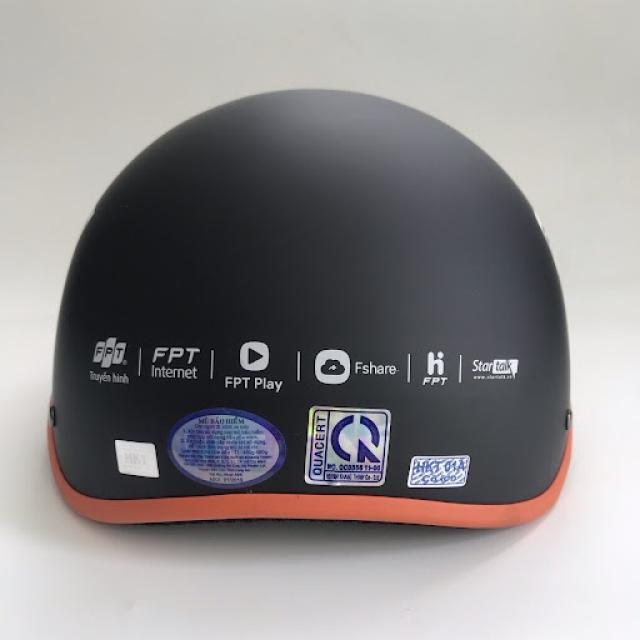Helmet: (30, 74, 582, 557)
